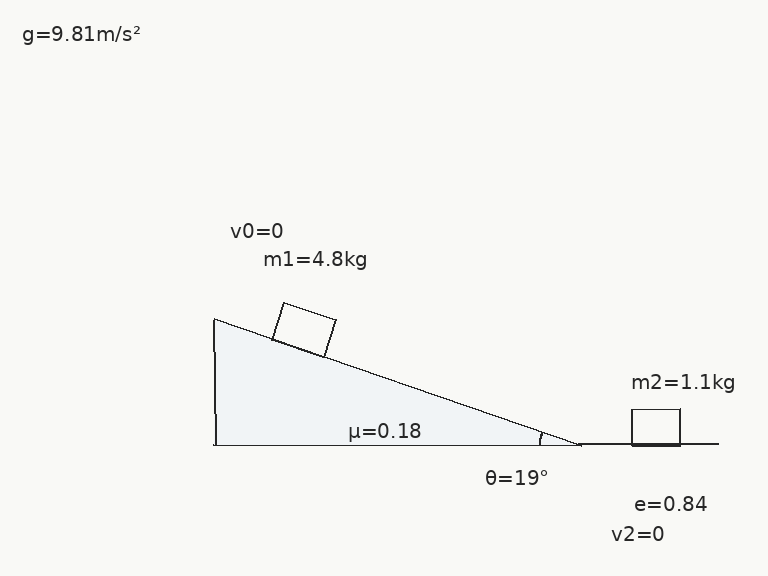block: (270, 300, 337, 358), (630, 407, 682, 447)
ramp: (212, 317, 582, 447)
